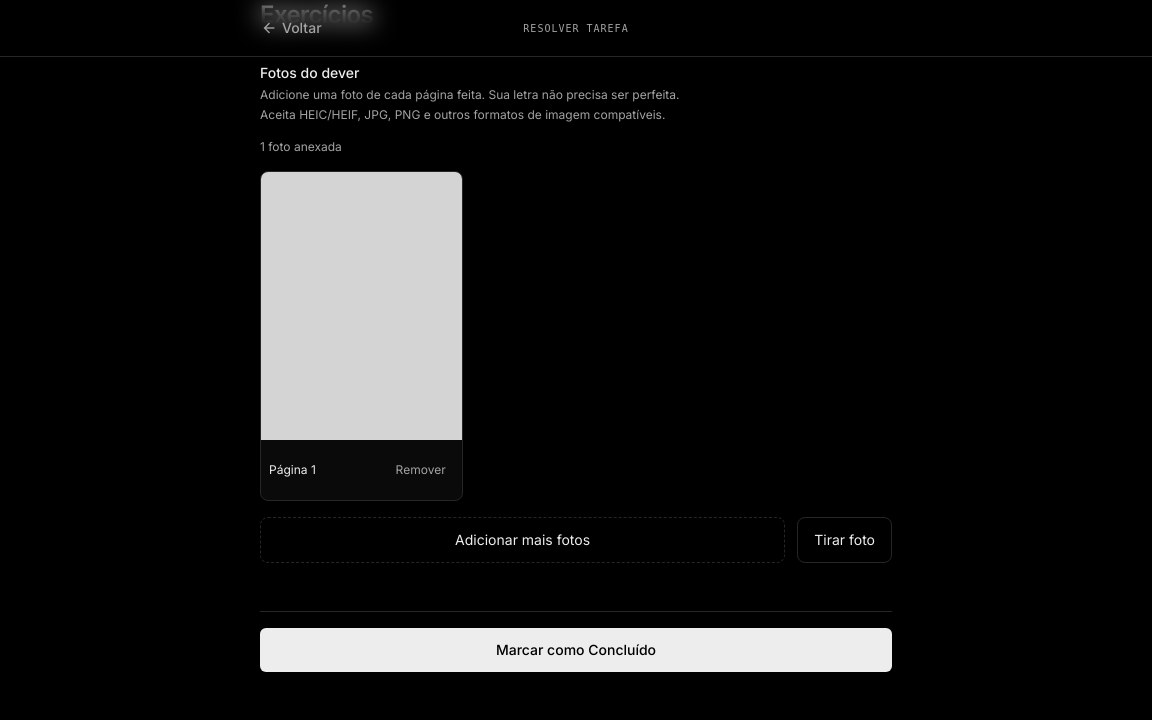
Test: completion with multiple pages › uses status 413 even when an HTTP error body is not JSON
Earlier steps of the test are not shown.
(page scrolled)
Click the button "Marcar como Concluído".
click(576, 650)  # box [260,628,892,672]
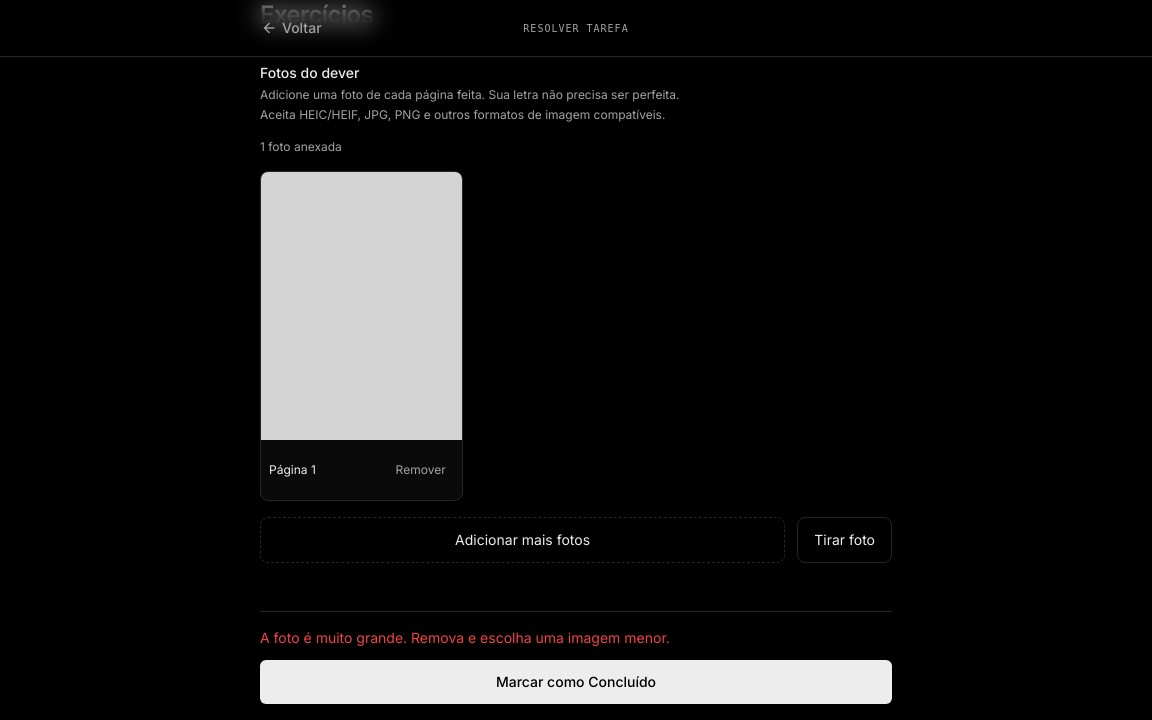
Check: the message shows "muito grande", box [260,628,670,646]
